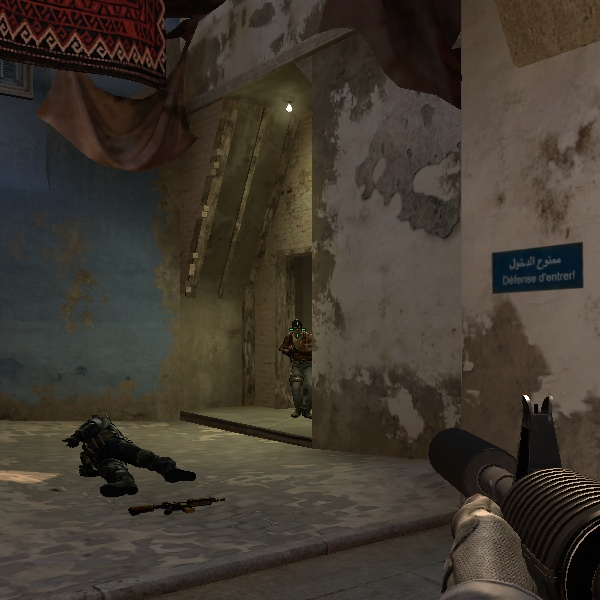t_body: (273, 315, 320, 423)
